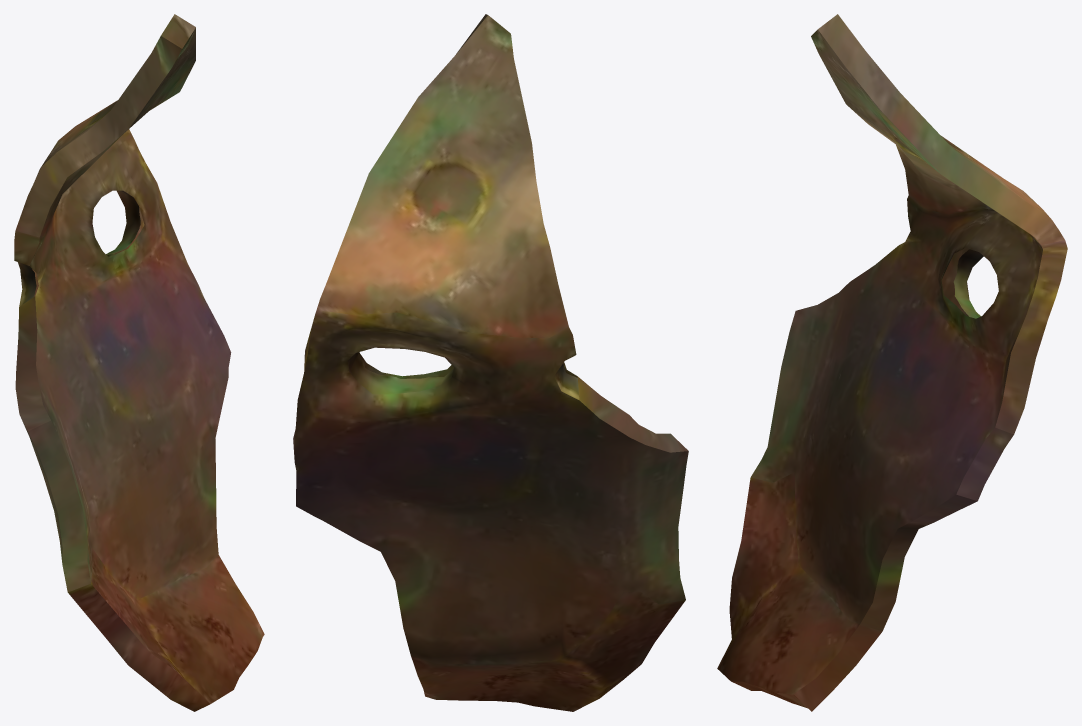
3 views of the same model, side by side, from view 1: azimuth 30°, elevation 25°; view 2: azimuth 150°, elevation 25°; view 3: azimuth 270°, elevation 25° (orthographic). The views are drawn at different scales.
Visible parts, largest first — view 1: SM_Poison_Rock_Piece_02_LOD0; view 2: SM_Poison_Rock_Piece_02_LOD0; view 3: SM_Poison_Rock_Piece_02_LOD0.
Part boxes in pixels (box(x1,y1,x2,y2)): SM_Poison_Rock_Piece_02_LOD0: box(14, 14, 264, 711); SM_Poison_Rock_Piece_02_LOD0: box(293, 14, 688, 711); SM_Poison_Rock_Piece_02_LOD0: box(717, 14, 1067, 711).
Size of the model in its own units: 1.06 by 2.4 by 1.12.
Materials: 1 (1 with a texture image).
